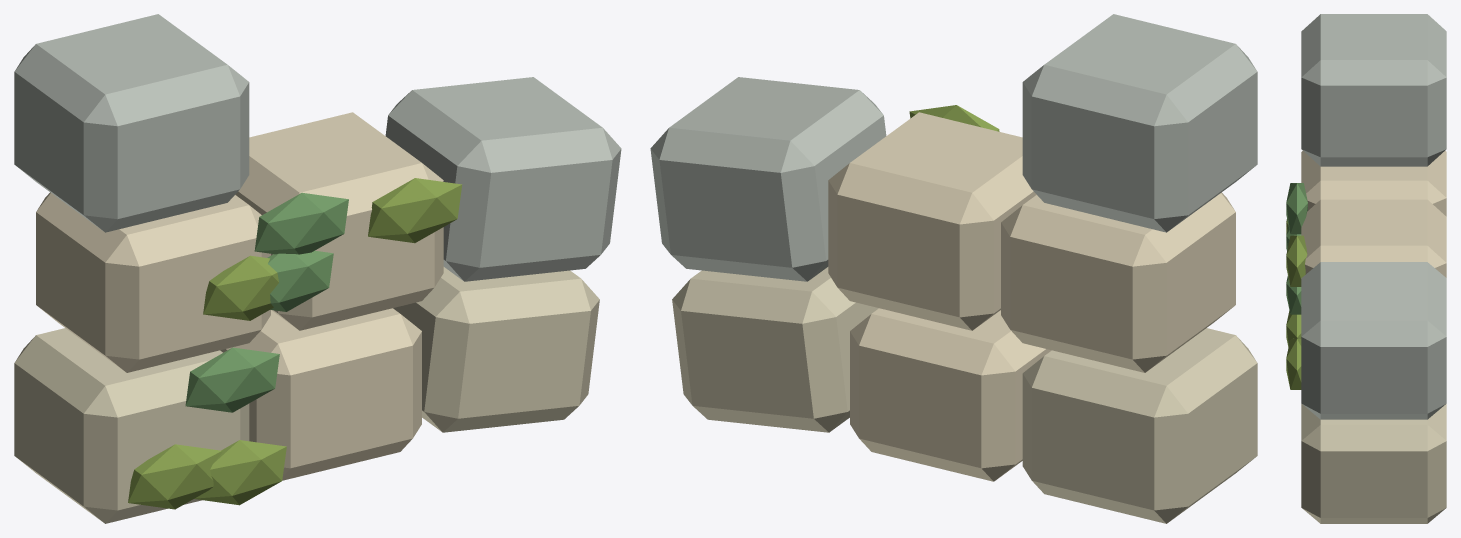
File: wall_broken.glb
3 renders of one model, left to right at view 1: azimuth 30°, elevation 25°; view 2: azimuth 150°, elevation 25°; view 3: azimuth 270°, elevation 25°, orthographic. The views are drawn at different scales.
Visible parts, largest first — view 1: wall_broken; view 2: wall_broken; view 3: wall_broken.
Part boxes in pixels (bbox=[...]): wall_broken: bbox=[14, 14, 621, 523]; wall_broken: bbox=[650, 14, 1257, 523]; wall_broken: bbox=[1286, 14, 1446, 523].
Bounding box in the file's own units: 1.12 × 0.8704 × 0.3755.
